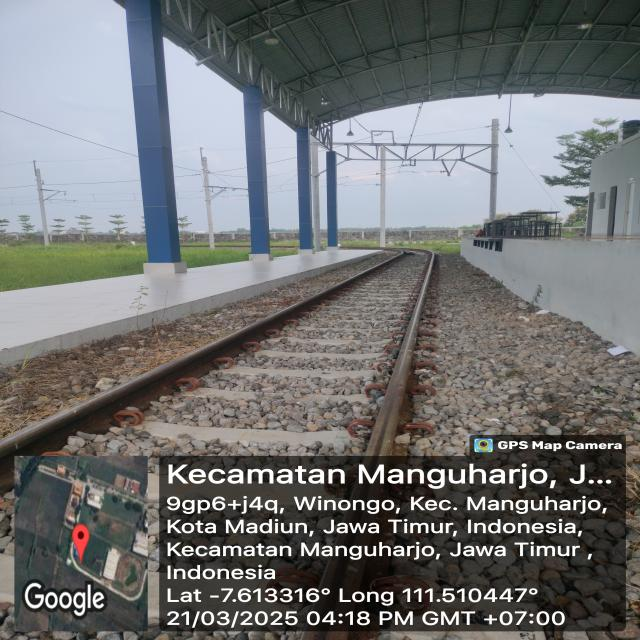rail-detection: (0, 251, 415, 490), (364, 250, 435, 456)
